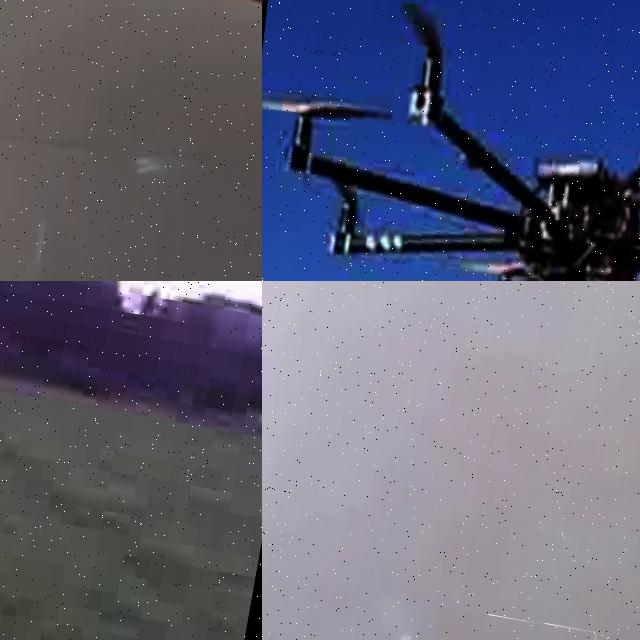drone: (262, 0, 640, 281), (0, 0, 262, 281), (262, 545, 596, 640)
